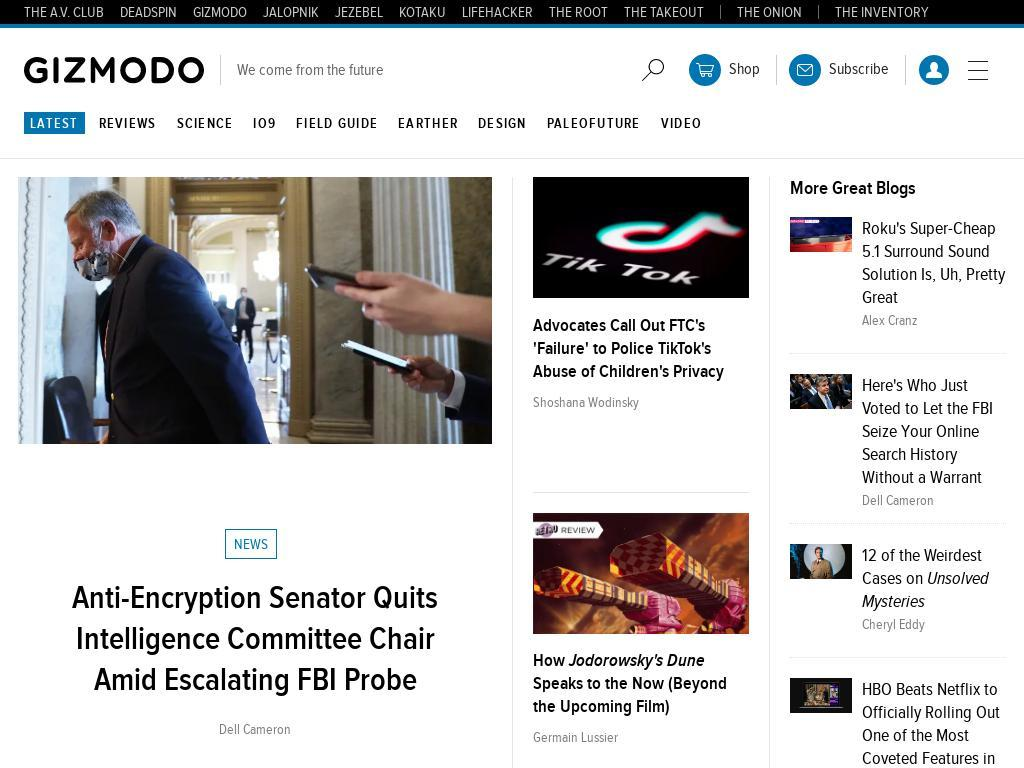button: (54, 579, 456, 703), (861, 374, 1006, 489), (24, 28, 204, 112), (533, 313, 749, 383), (533, 649, 749, 718), (861, 217, 1006, 309), (861, 678, 1006, 768), (861, 544, 1006, 613), (783, 48, 912, 92), (683, 48, 783, 92), (861, 309, 1006, 333), (861, 489, 1006, 513), (861, 613, 1006, 637), (533, 390, 639, 415), (540, 112, 647, 134), (790, 217, 852, 252), (790, 374, 852, 409), (790, 544, 852, 579), (790, 678, 852, 713), (290, 112, 385, 134), (533, 726, 618, 750), (631, 48, 675, 92), (956, 48, 1000, 92), (225, 529, 285, 560), (219, 718, 291, 743), (392, 112, 465, 134), (92, 112, 163, 134), (170, 112, 240, 134), (24, 112, 85, 134), (472, 112, 533, 134), (654, 112, 709, 134), (919, 55, 949, 85), (247, 112, 283, 134), (533, 512, 749, 513)
heading: (54, 579, 456, 703), (861, 374, 1006, 489), (533, 313, 749, 383), (861, 217, 1006, 309), (861, 678, 1006, 768), (533, 673, 727, 717), (861, 568, 989, 612), (861, 545, 982, 589), (790, 177, 1006, 201), (569, 650, 705, 671), (533, 650, 569, 671)
image: (18, 177, 492, 444), (533, 512, 749, 673), (533, 177, 749, 299), (24, 57, 249, 91), (790, 217, 852, 252), (790, 374, 852, 409), (790, 544, 852, 579), (790, 678, 852, 713), (641, 58, 665, 82), (966, 58, 990, 82), (696, 61, 714, 79), (796, 61, 814, 79), (925, 61, 943, 79)
link: (835, 4, 929, 21), (24, 4, 104, 21), (624, 4, 704, 21), (462, 4, 533, 21), (737, 4, 802, 21), (549, 4, 608, 21), (120, 4, 177, 21), (263, 4, 319, 21), (193, 4, 247, 21), (335, 4, 383, 21), (399, 4, 446, 21)
text: (220, 55, 384, 85), (546, 112, 641, 134), (296, 112, 379, 134), (533, 394, 639, 411), (225, 529, 277, 560), (829, 58, 889, 82), (533, 730, 618, 746), (398, 112, 459, 134), (98, 112, 157, 134), (176, 112, 234, 134), (219, 722, 291, 739), (861, 493, 934, 509), (30, 112, 79, 134), (478, 112, 527, 134), (861, 617, 925, 633), (660, 112, 703, 134), (861, 313, 917, 329), (729, 58, 760, 82), (253, 112, 277, 134)
